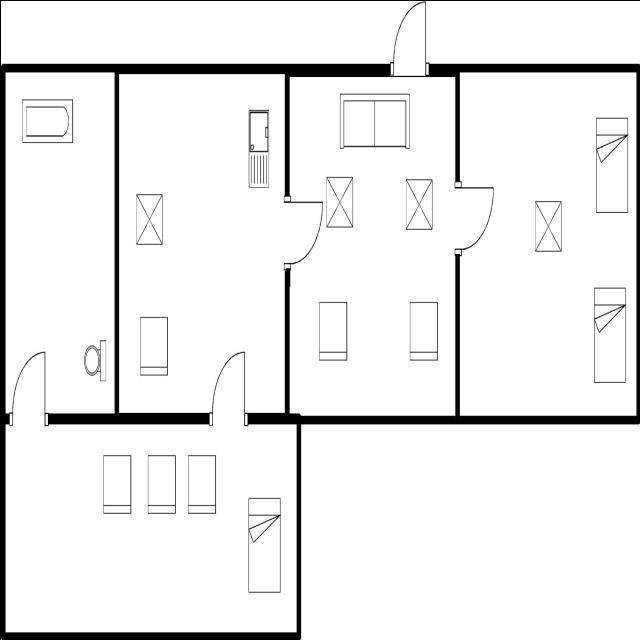bed: (243, 492, 283, 598), (590, 278, 628, 388), (592, 110, 630, 216)
coffee_table: (323, 166, 356, 232), (530, 194, 564, 256), (132, 185, 164, 249), (402, 170, 434, 233)
large_sink: (79, 334, 110, 388)
large_sofa: (335, 86, 413, 154)
sink: (244, 104, 272, 190)
small_sofa: (98, 449, 136, 519), (136, 306, 170, 382), (314, 294, 349, 366), (184, 446, 218, 520), (406, 295, 441, 365), (143, 446, 177, 518)
tub: (17, 92, 76, 150)
